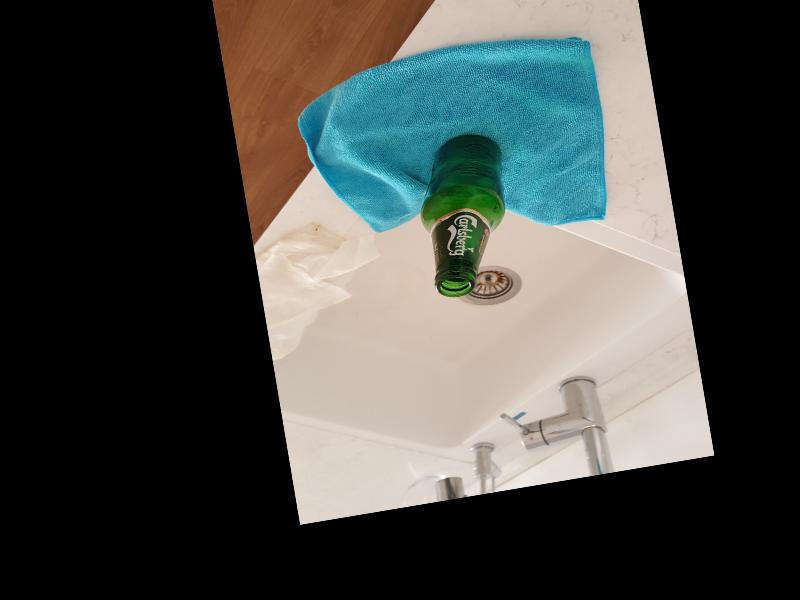Beer: (407, 127, 520, 298)
